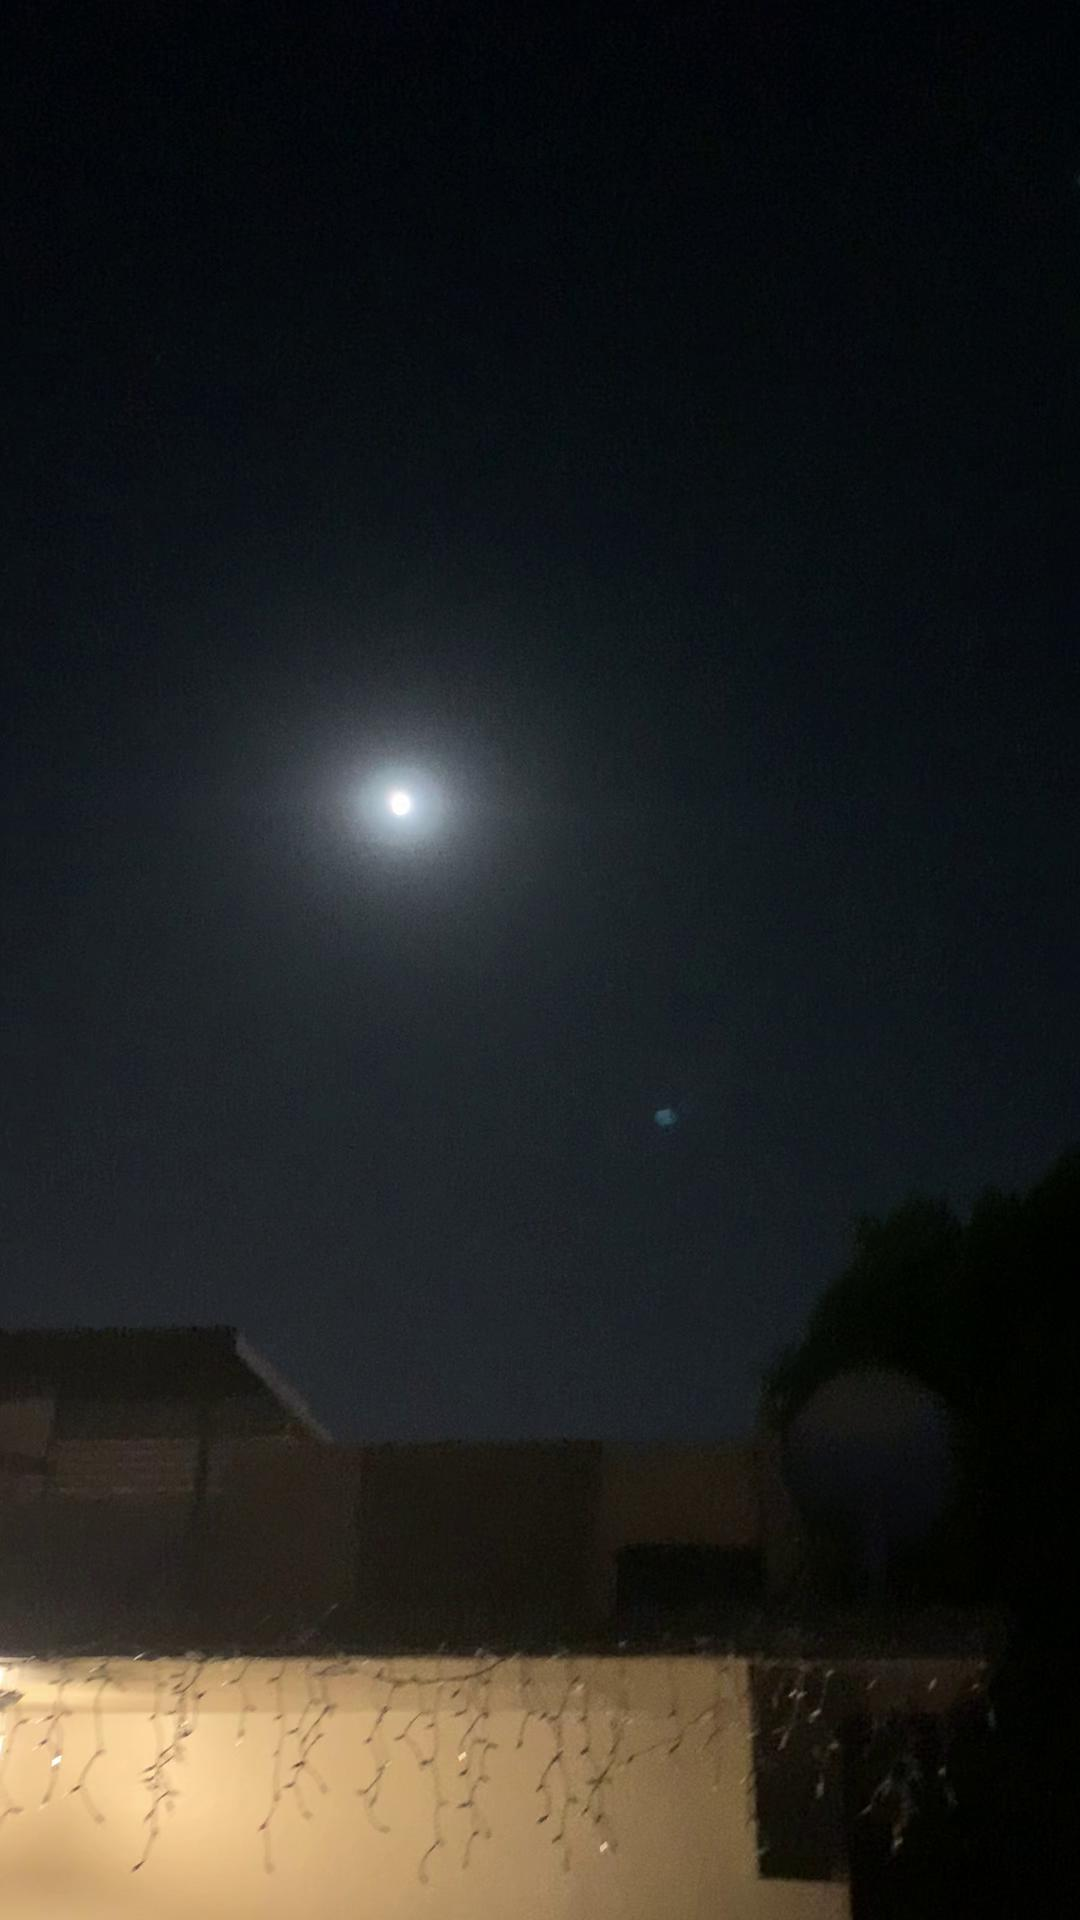moon: (364, 761, 451, 840)
